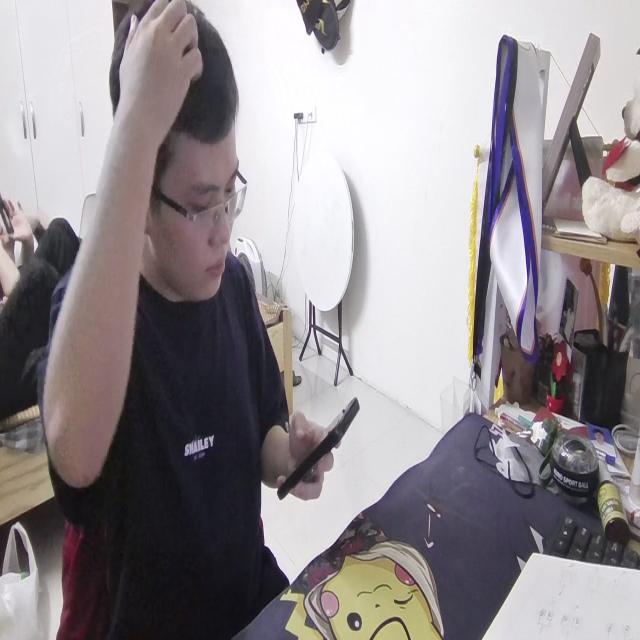book: (479, 546, 640, 640)
phone: (277, 390, 358, 504)
student: (41, 0, 341, 640)
